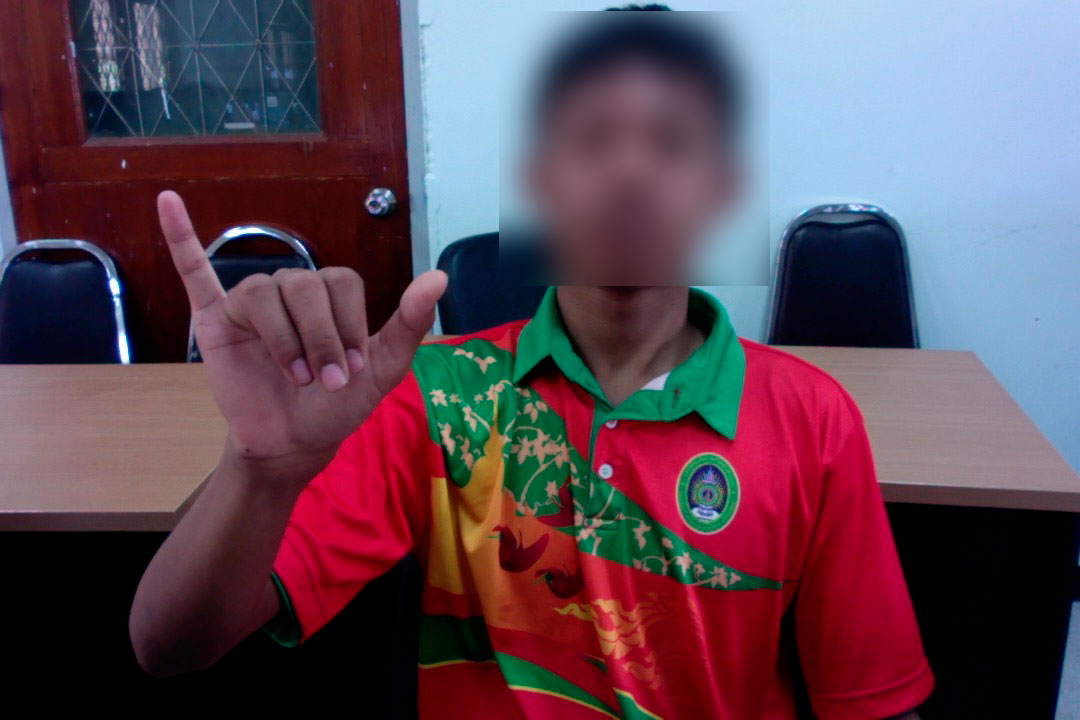yor: (151, 178, 455, 475)
